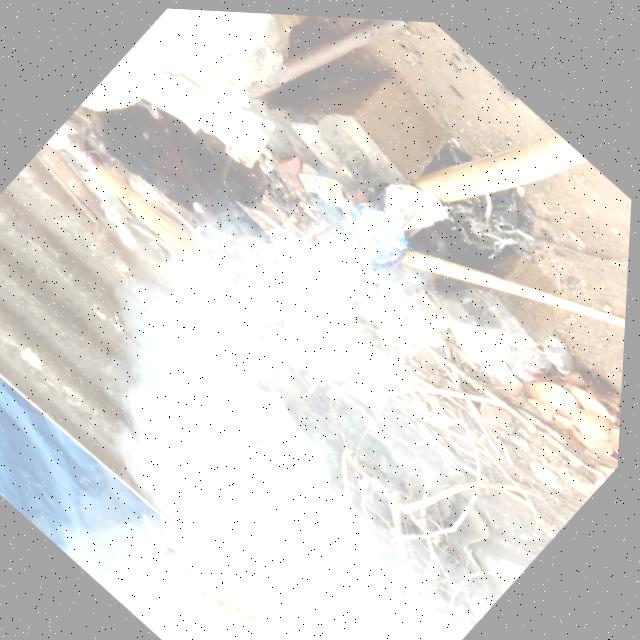Smoke: (0, 62, 637, 640)
